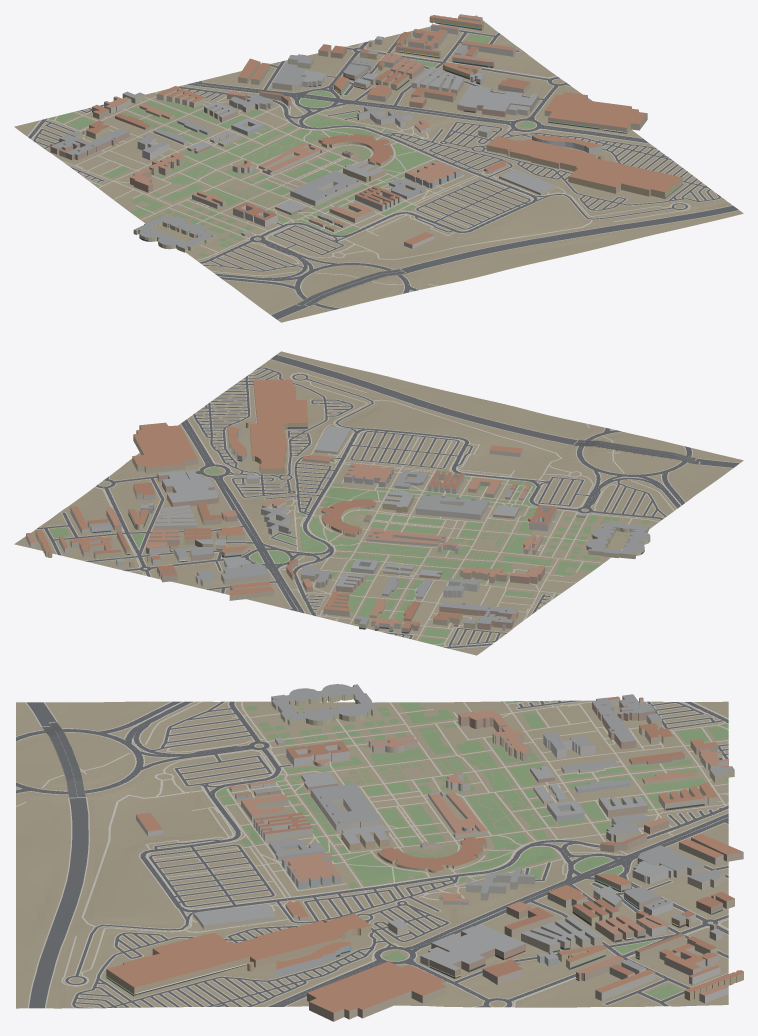
3 renders of one model, top to bottom at view 1: azimuth 30°, elevation 25°; view 2: azimuth 150°, elevation 25°; view 3: azimuth 270°, elevation 25°, orthographic. The views are drawn at different scales.
Visible parts, largest first — view 1: Ground, Roofs, Sidewalk, Walls, Road, Park, Detail, Deck; view 2: Ground, Roofs, Sidewalk, Road, Walls, Park, Deck, Struct; view 3: Ground, Roofs, Sidewalk, Walls, Road, Park, Deck, Detail.
Part boxes in pixels (<box>): Ground: <box>14,15,743,322</box>; Roofs: <box>50,14,682,248</box>; Sidewalk: <box>27,27,738,319</box>; Walls: <box>50,17,682,252</box>; Road: <box>28,26,738,319</box>; Park: <box>35,34,534,257</box>; Detail: <box>92,22,682,241</box>; Deck: <box>297,269,405,305</box>; Ground: <box>14,351,743,655</box>; Roofs: <box>26,379,650,628</box>; Sidewalk: <box>36,354,739,648</box>; Road: <box>37,355,739,648</box>; Walls: <box>26,381,650,633</box>; Park: <box>49,467,649,650</box>; Deck: <box>574,440,699,463</box>; Struct: <box>573,440,700,464</box>; Ground: <box>16,700,728,1008</box>; Roofs: <box>107,684,743,1012</box>; Sidewalk: <box>16,700,728,1008</box>; Walls: <box>106,685,743,1021</box>; Road: <box>16,700,728,1008</box>; Park: <box>216,701,728,999</box>; Deck: <box>43,722,85,798</box>; Detail: <box>106,757,728,995</box>.
Bounding box in the file's own units: 1091 × 25.7 × 1024.
